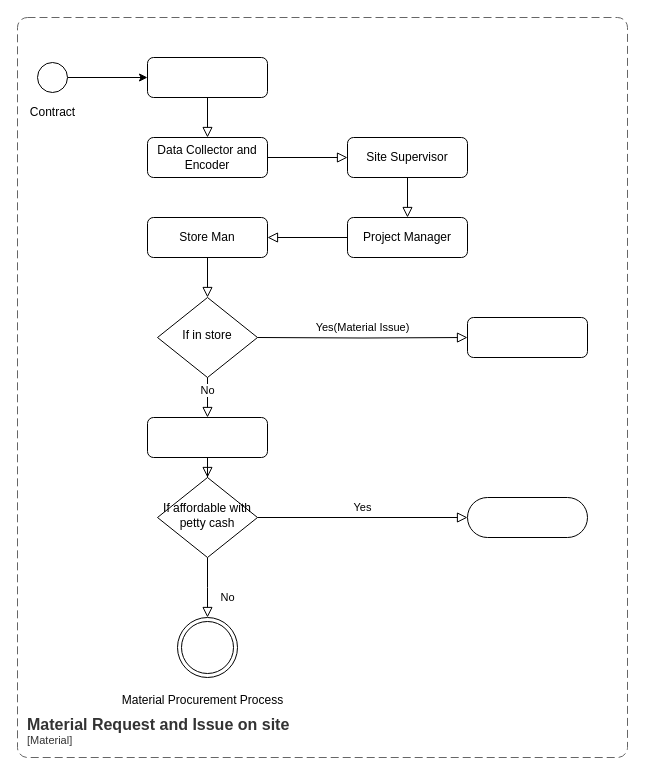
This 645x775 diagram has some shape labels left out. Each missing label, with the box of its shape:
Contracter: (466, 316, 588, 358)
Contractor: (146, 56, 268, 98)
Direct Purchase: (466, 496, 588, 538)
GM: (146, 416, 268, 458)
